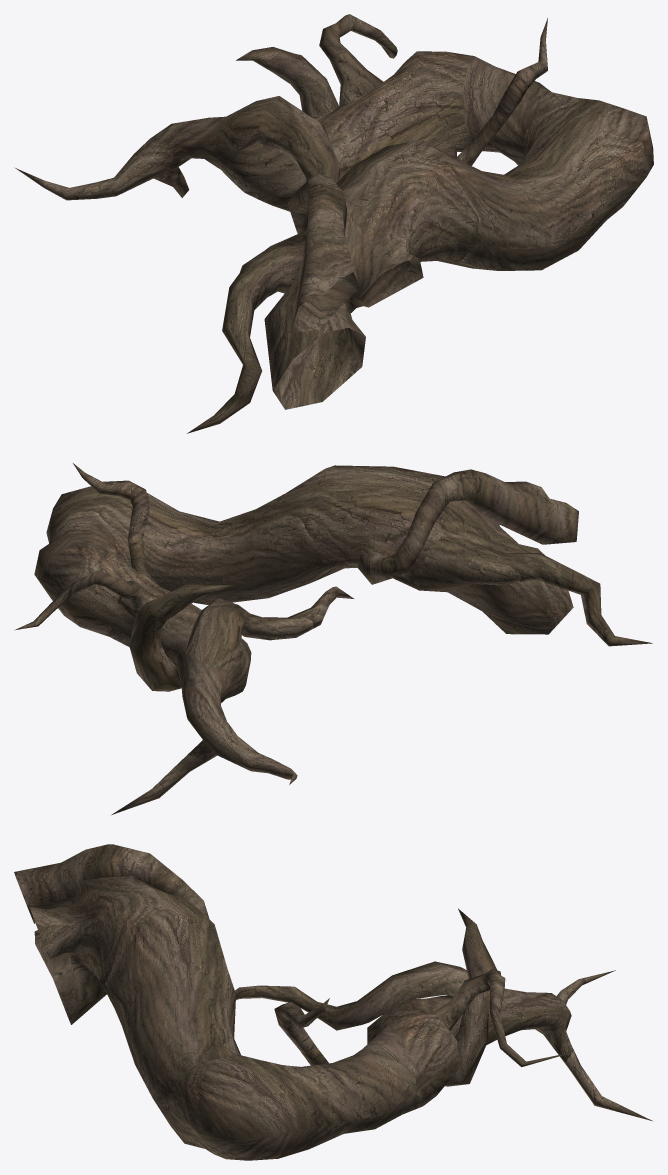
Rendered from s7_fightpve_kushu02_uv.FBX.
3 views of the same model, one above another, from view 1: azimuth 30°, elevation 25°; view 2: azimuth 150°, elevation 25°; view 3: azimuth 270°, elevation 25° (orthographic). The views are drawn at different scales.
Visible parts, largest first — view 1: 0000000; view 2: 0000000; view 3: 0000000.
Part boxes in pixels (x1,y1,x2,y2): 0000000: (14, 14, 653, 433); 0000000: (14, 463, 652, 814); 0000000: (14, 844, 652, 1160).
Bounding box in the file's own units: 10.17 × 3.87 × 10.05.
